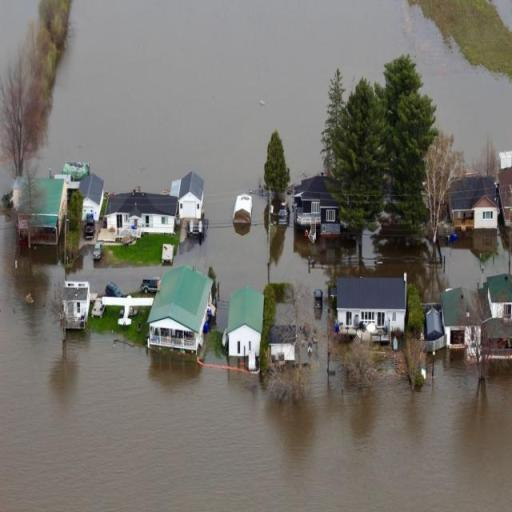flood: (0, 216, 512, 512), (37, 0, 512, 193), (176, 183, 444, 322), (442, 242, 512, 290), (69, 256, 146, 297), (0, 165, 13, 200)
house: (148, 261, 216, 365), (332, 274, 408, 346), (223, 285, 268, 375), (13, 176, 69, 246), (290, 173, 344, 241), (110, 186, 176, 238), (481, 272, 512, 365), (448, 176, 498, 230), (440, 288, 468, 350), (78, 166, 105, 229), (173, 170, 205, 221), (497, 148, 512, 241), (270, 325, 297, 362), (62, 280, 89, 317)
